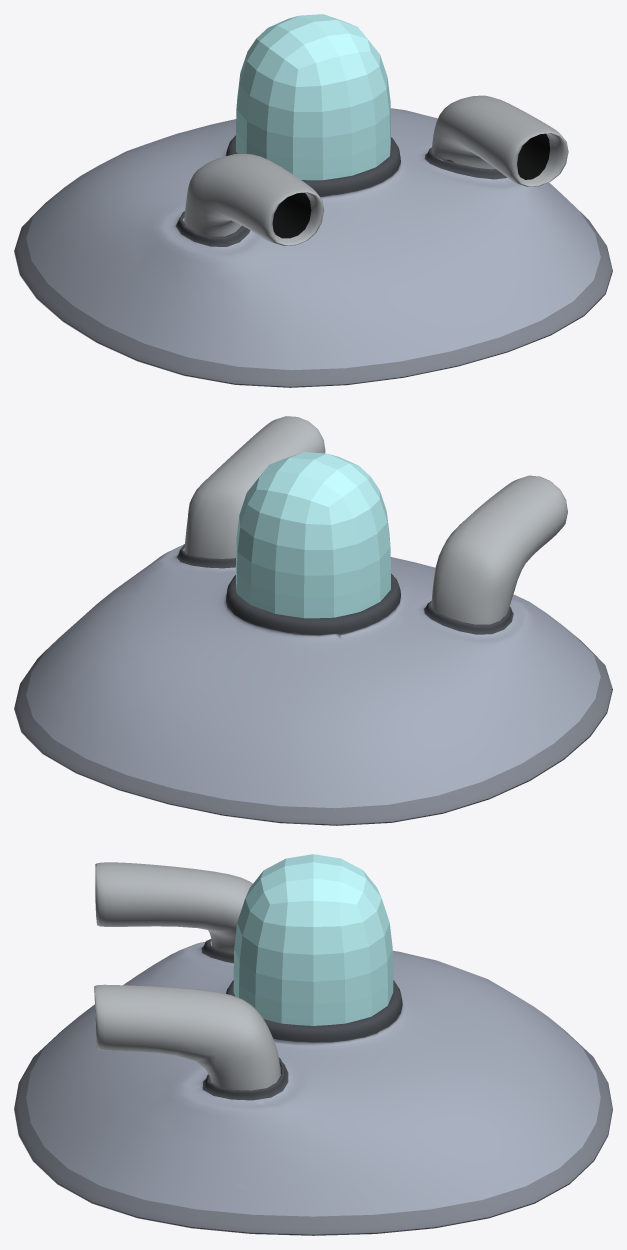
Rendered from SpaceShip.fbx.
3 renders of one model, top to bottom at view 1: azimuth 30°, elevation 25°; view 2: azimuth 150°, elevation 25°; view 3: azimuth 270°, elevation 25°, orthographic. The views are drawn at different scales.
Parts seen in each view (by area): view 1: SpaceShip, Dome; view 2: SpaceShip, Dome; view 3: SpaceShip, Dome.
Boxes of the visible parts, box(x1,y1,x2,y2) form: SpaceShip: box(14, 95, 612, 387); Dome: box(236, 14, 390, 180); SpaceShip: box(14, 416, 612, 825); Dome: box(236, 452, 390, 618); SpaceShip: box(14, 862, 612, 1235); Dome: box(233, 854, 393, 1025).
Bounding box in the file's own units: 447 × 270 × 447.
